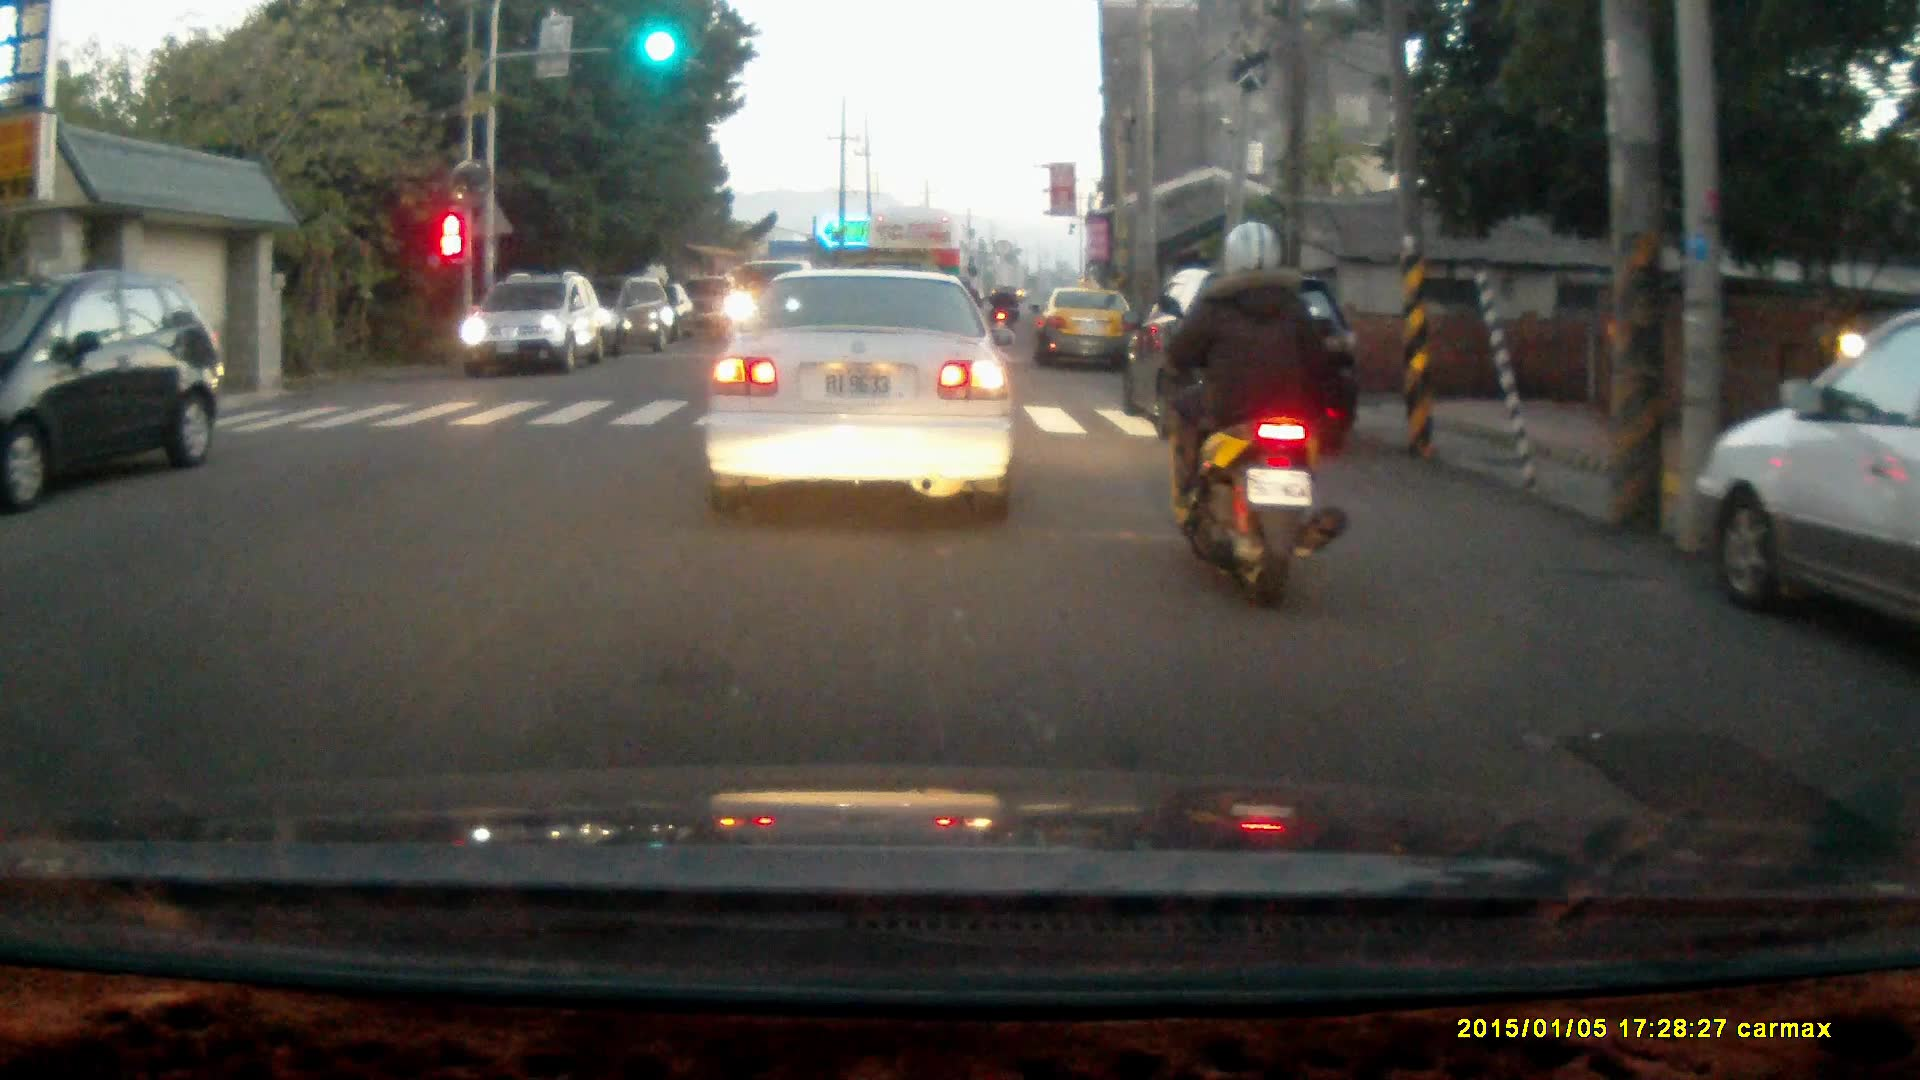rider: (1152, 219, 1350, 616)
vehicle: (697, 265, 1020, 525), (1701, 310, 1920, 636), (1, 274, 223, 510), (1115, 277, 1364, 459), (868, 209, 970, 359), (461, 279, 604, 378), (555, 278, 676, 365), (1033, 288, 1138, 377)
